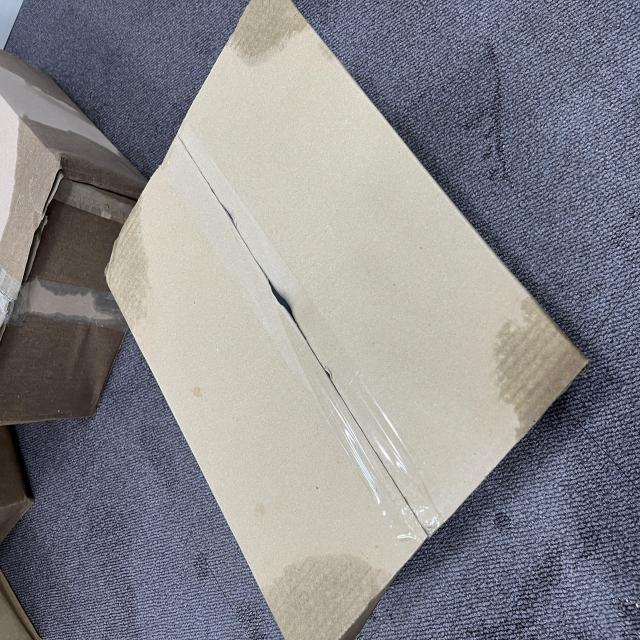wet: (56, 201, 148, 345), (251, 2, 383, 87), (331, 580, 410, 640), (488, 312, 534, 413)
